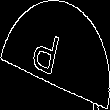P_S: (38, 25, 72, 85)
